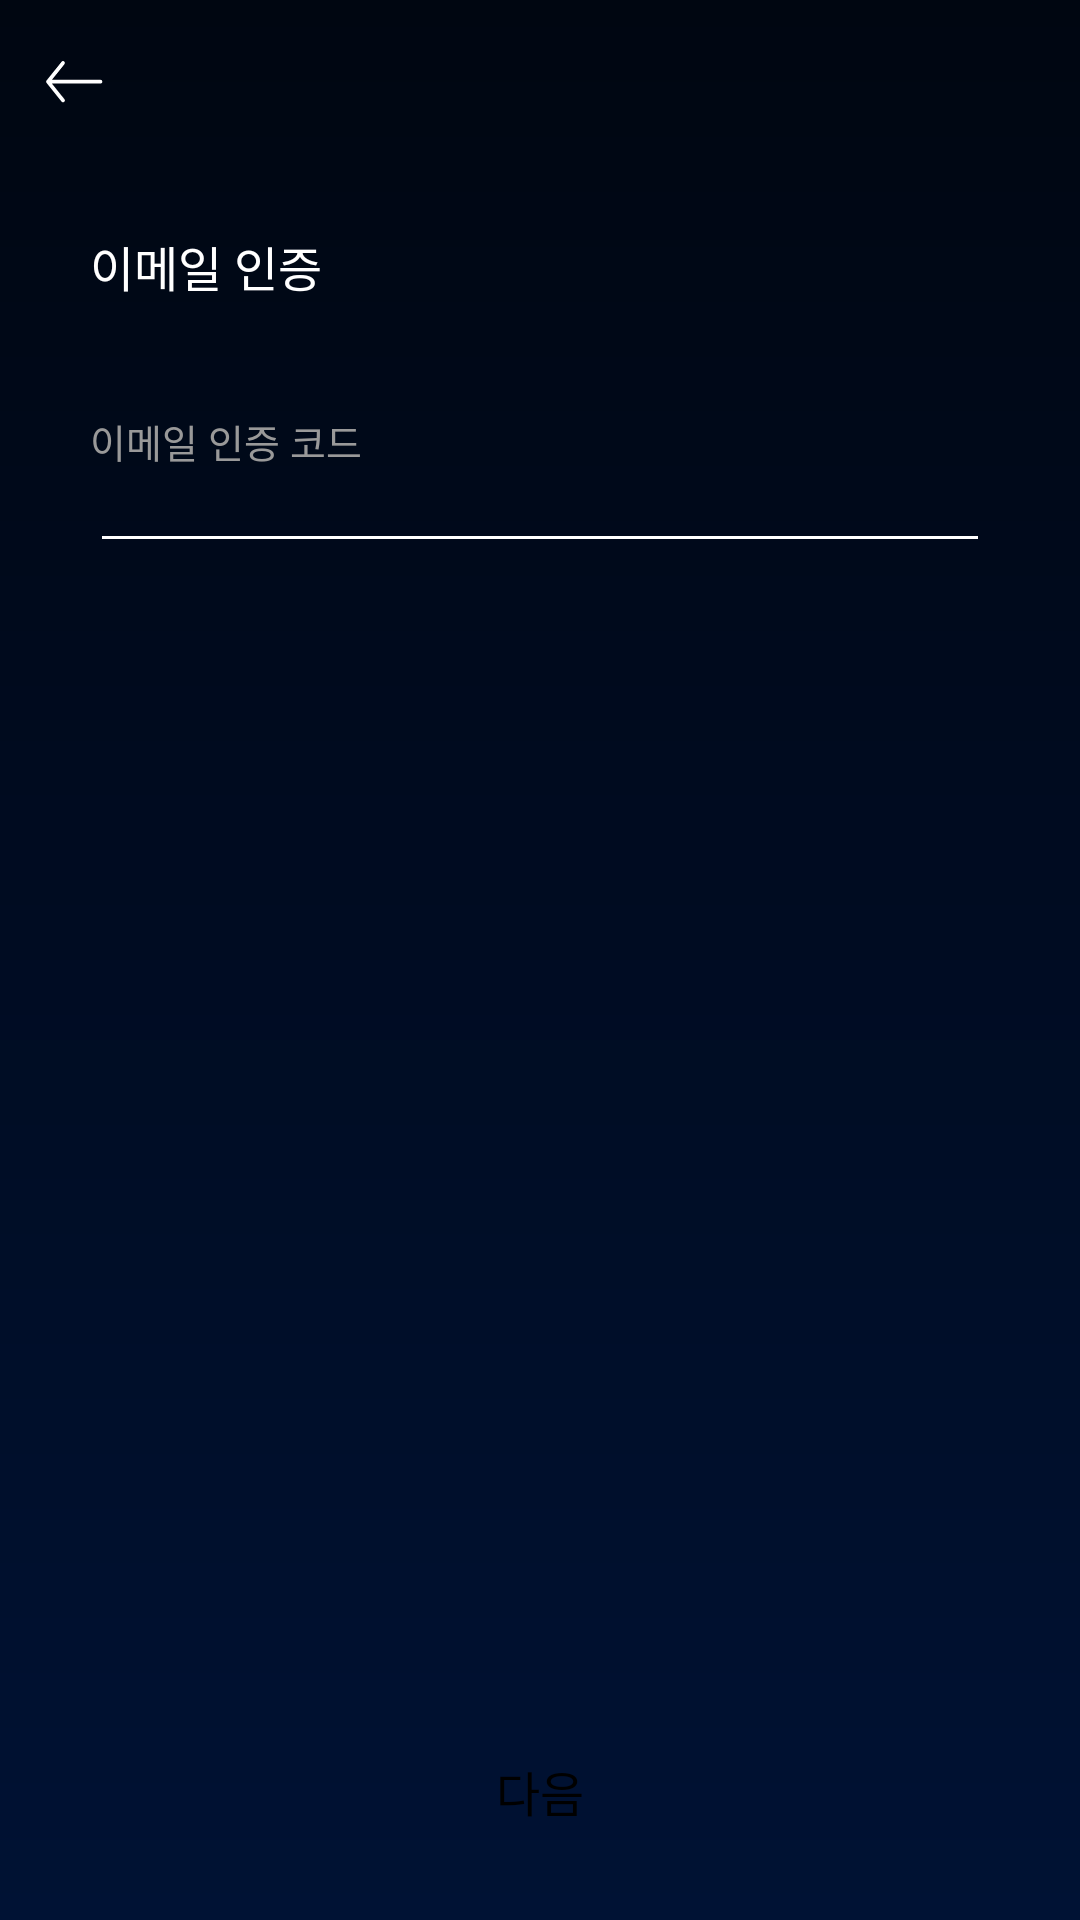

Named icons in this screenshot (1080 × 1920) and their centers, (x=x, y=y):
back: (x=74, y=82)
